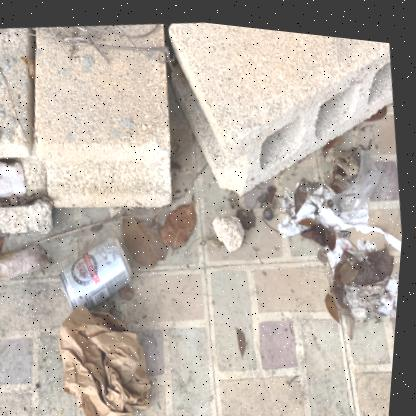Metal: (62, 231, 135, 307), (62, 281, 70, 293)
Paper: (62, 301, 156, 416), (280, 173, 405, 241), (326, 229, 403, 314)
Plastic: (330, 139, 383, 212)
